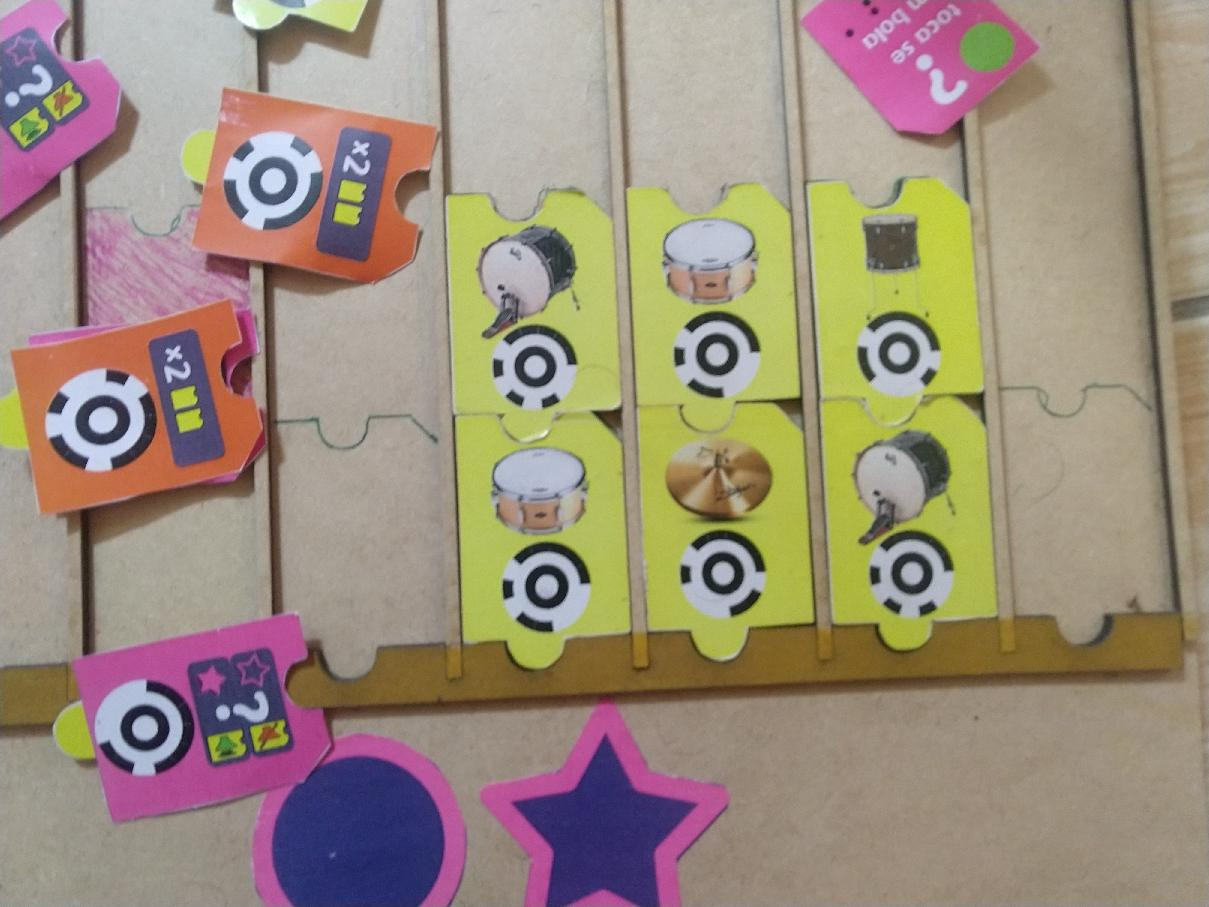bumbo: (812, 395, 1002, 657), (441, 187, 627, 444)
